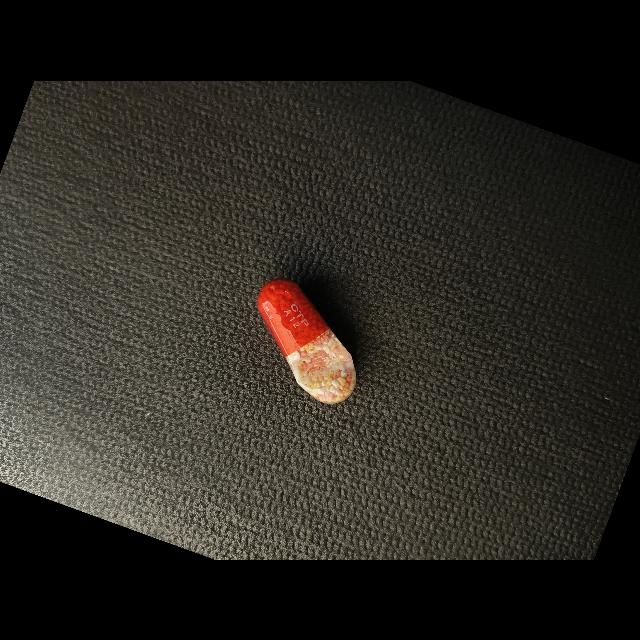Defective Capsule: (257, 278, 356, 404)
